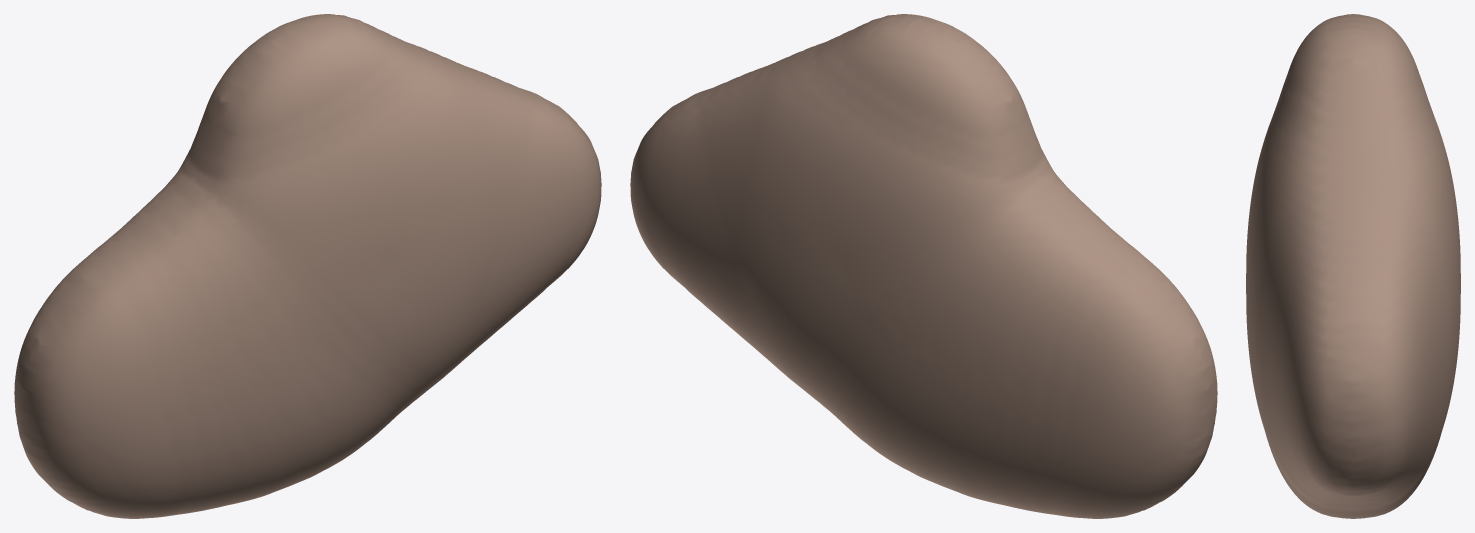
Rendered from particle3.glb.
3 renders of one model, left to right at view 1: azimuth 30°, elevation 25°; view 2: azimuth 150°, elevation 25°; view 3: azimuth 270°, elevation 25°, orthographic. The views are drawn at different scales.
Visible parts, largest first — view 1: mesh_id38; view 2: mesh_id38; view 3: mesh_id38.
Boxes of the visible parts, x1,y1,x2,y2 form: mesh_id38: (14,14,601,518); mesh_id38: (630,14,1217,518); mesh_id38: (1246,14,1460,518).
Bounding box in the file's own units: 0.6975 × 0.5289 × 0.2034.
Materials: 1 (1 with a texture image).
